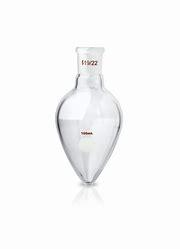Pear shaped flask: (49, 41, 125, 182)
